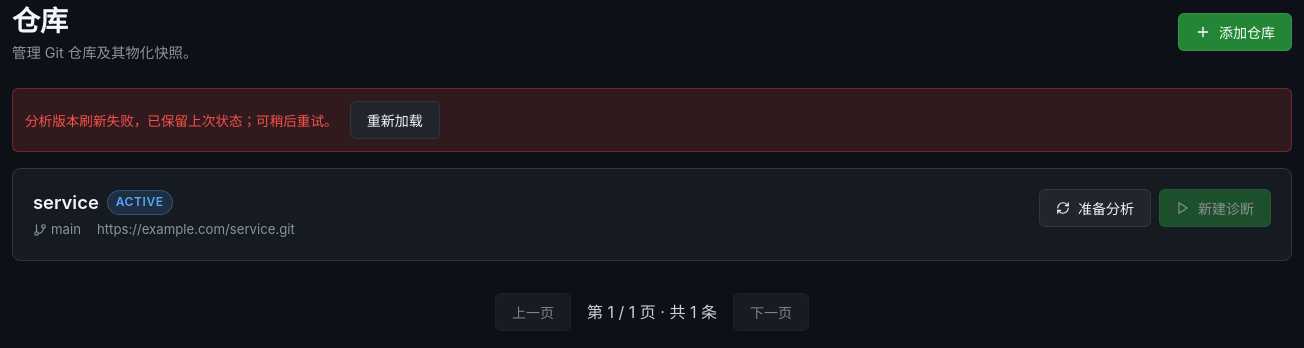
Test case: RepositoriesPage AnalysisRevision polling › shows a reload action after the first transient failure and recovers on click
Click the button "重新加载": (395, 120) [350,101,440,139]
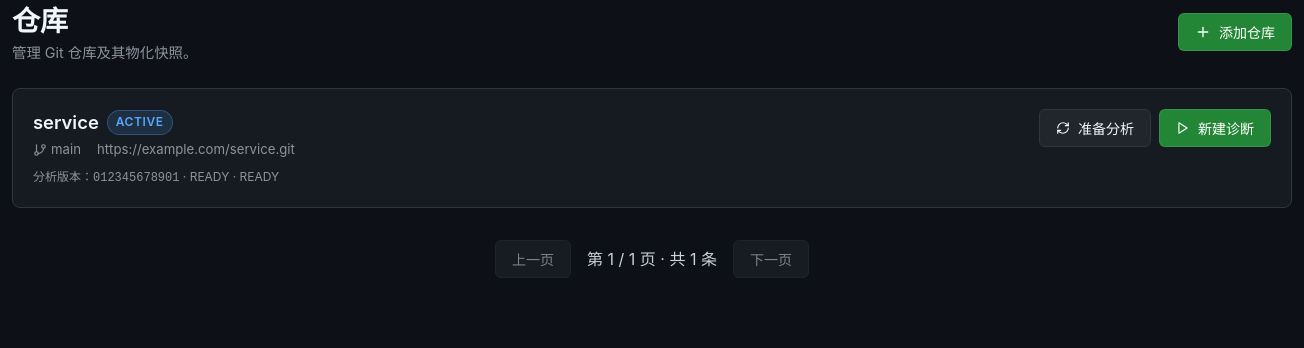
Expected: the text "READY" is shown, [190,169,229,184]
Expected: the text "分析版本刷新失败" is gone
